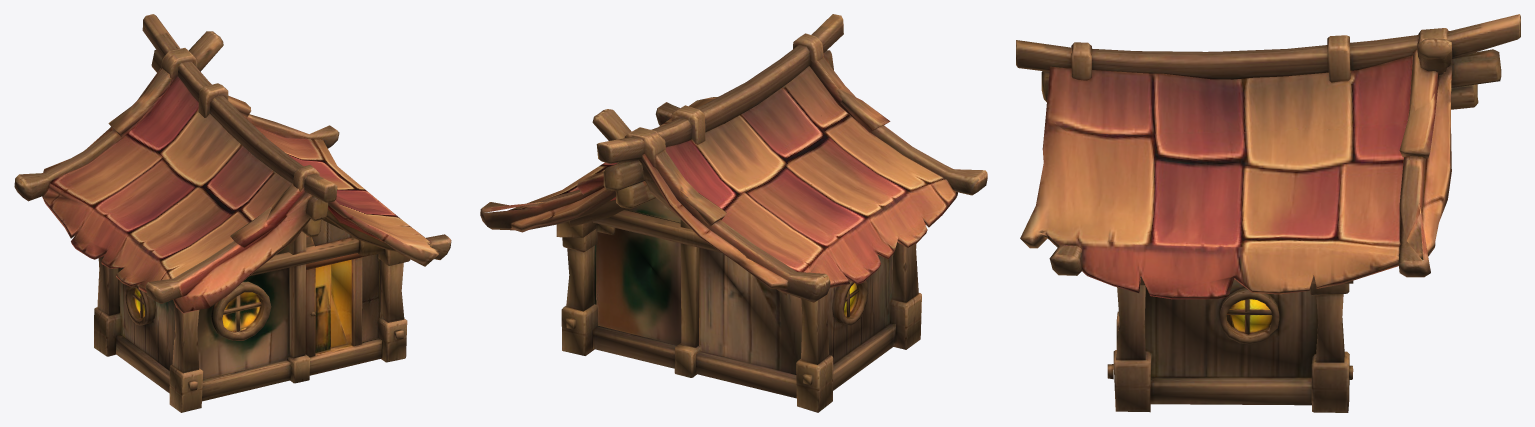
The model's file is body.glb.
3 views of the same model, side by side, from view 1: azimuth 30°, elevation 25°; view 2: azimuth 150°, elevation 25°; view 3: azimuth 270°, elevation 25° (orthographic). The views are drawn at different scales.
Visible parts, largest first — view 1: body_LOD0; view 2: body_LOD0; view 3: body_LOD0.
Boxes of the visible parts, box(x1,y1,x2,y2) form: body_LOD0: box(14, 14, 451, 412); body_LOD0: box(480, 14, 987, 412); body_LOD0: box(1016, 14, 1520, 412).
Size of what is drawn, in the model's own units: 0.9316 by 0.7266 by 1.
Materials: 1 (1 with a texture image).
